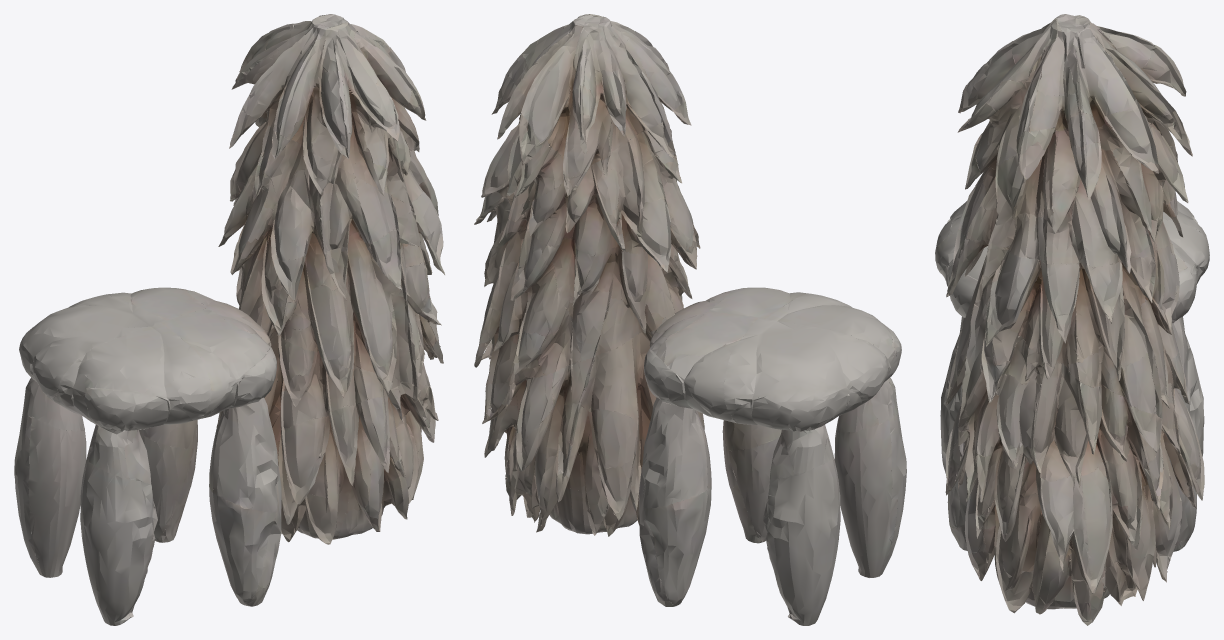
The model's file is 06_1_yellowdot_monster_chair-opt-v27.glb.
3 renders of one model, left to right at view 1: azimuth 30°, elevation 25°; view 2: azimuth 150°, elevation 25°; view 3: azimuth 270°, elevation 25°, orthographic. The views are drawn at different scales.
Parts seen in each view (by area): view 1: tripo_node_09ffea89-5e0e-445a-837c-f3a5a67d5015; view 2: tripo_node_09ffea89-5e0e-445a-837c-f3a5a67d5015; view 3: tripo_node_09ffea89-5e0e-445a-837c-f3a5a67d5015.
Boxes of the visible parts, x1,y1,x2,y2 form: tripo_node_09ffea89-5e0e-445a-837c-f3a5a67d5015: (14,14,444,625); tripo_node_09ffea89-5e0e-445a-837c-f3a5a67d5015: (474,14,906,625); tripo_node_09ffea89-5e0e-445a-837c-f3a5a67d5015: (935,14,1209,625).
Bounding box in the file's own units: 0.7164 × 0.9048 × 0.3793.
1 material, 1 textured.
